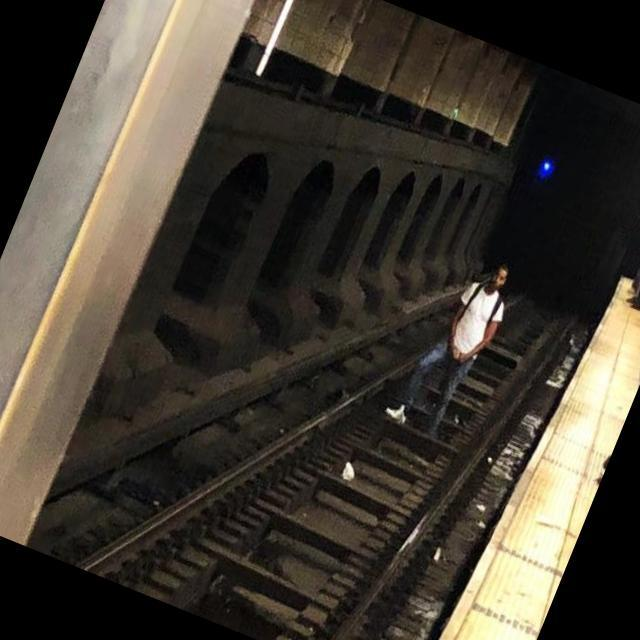person: (380, 233, 526, 446), (623, 173, 640, 315)
